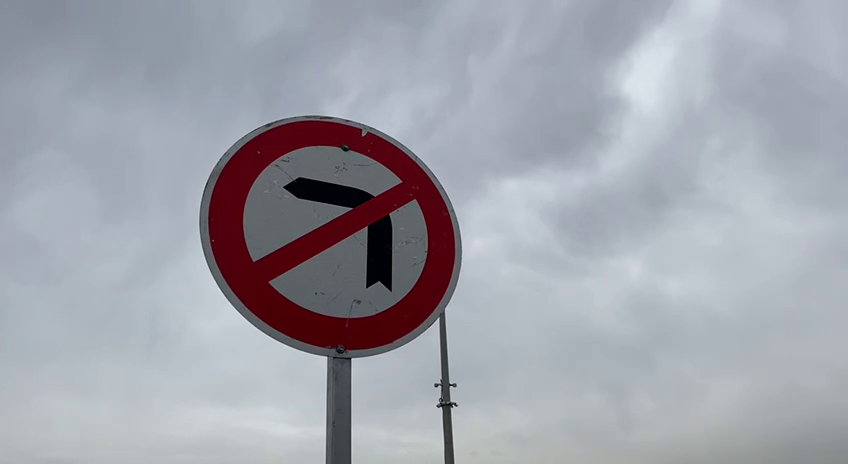noTurnLeft: (193, 111, 470, 364)
